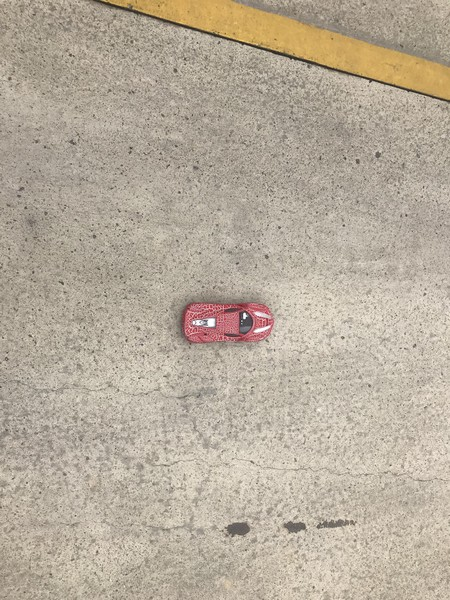RC: (179, 299, 276, 345)
